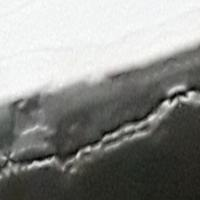crack: (0, 94, 199, 192)
